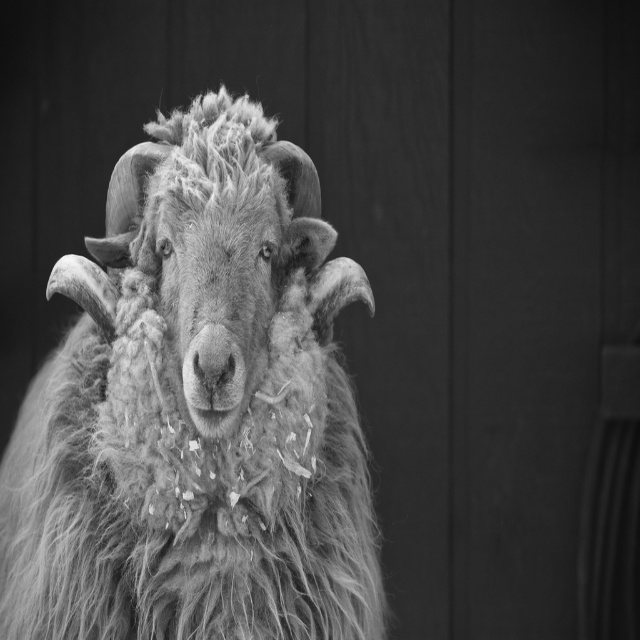Sheep: (0, 86, 398, 639)
